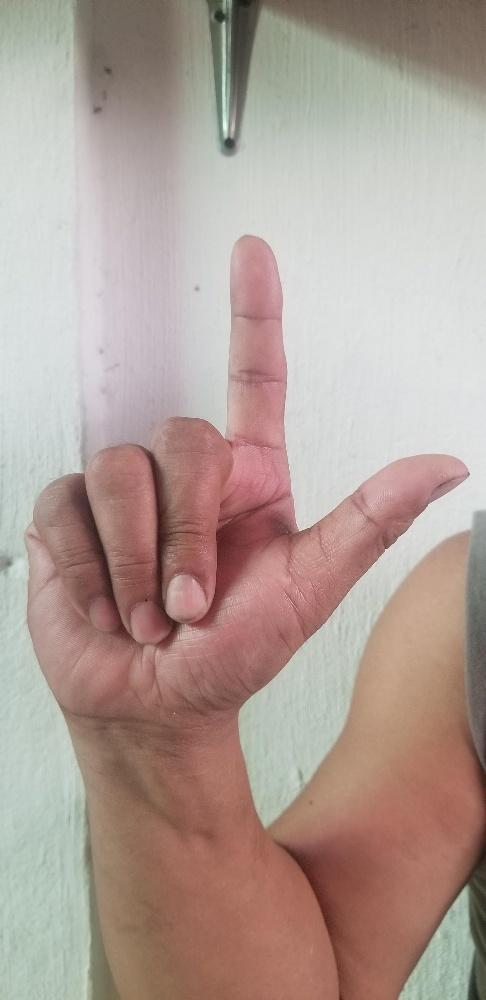l: (24, 235, 468, 726)
